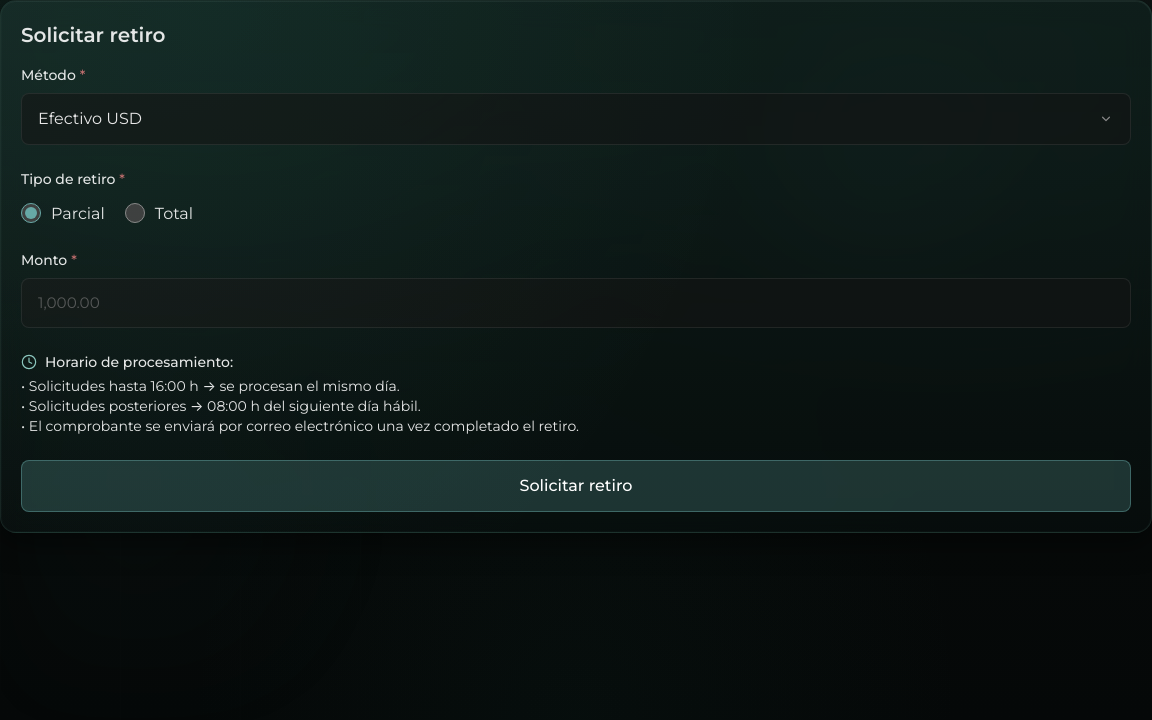
WithdrawalForm › cancelling the confirm modal does not submit the request
In the number field labelled "Monto*": (576, 303) [21,278,1131,328], type "50"
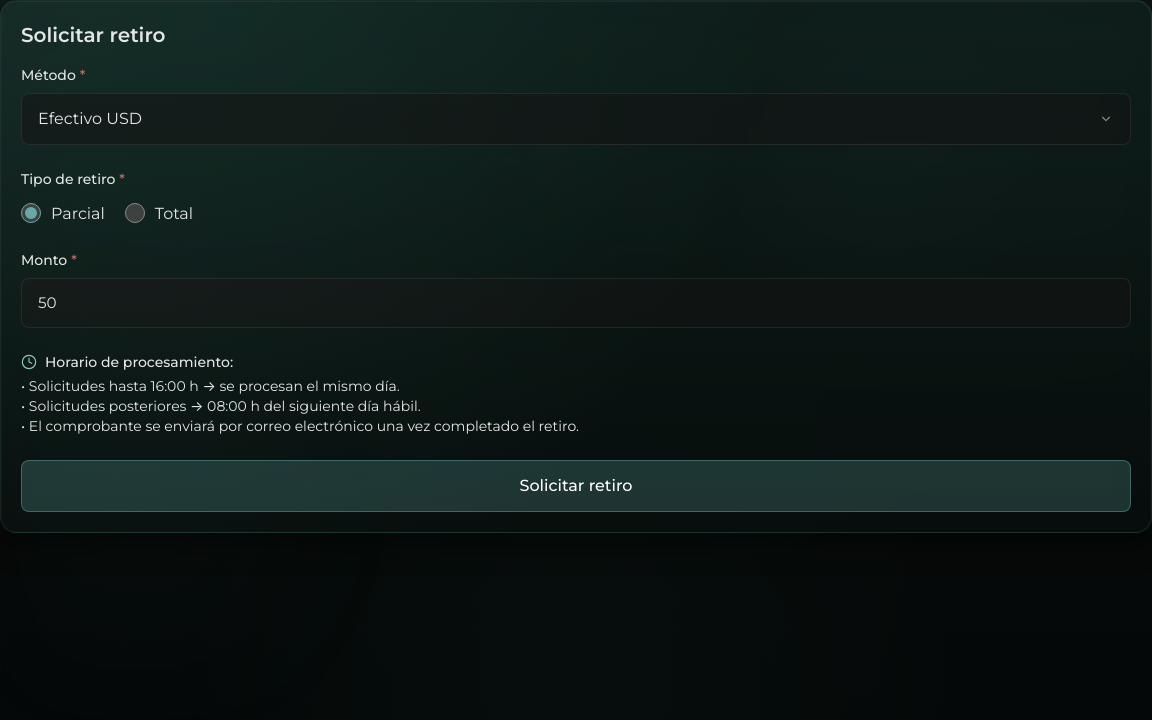
Submit the form, box [21,65,1131,512]
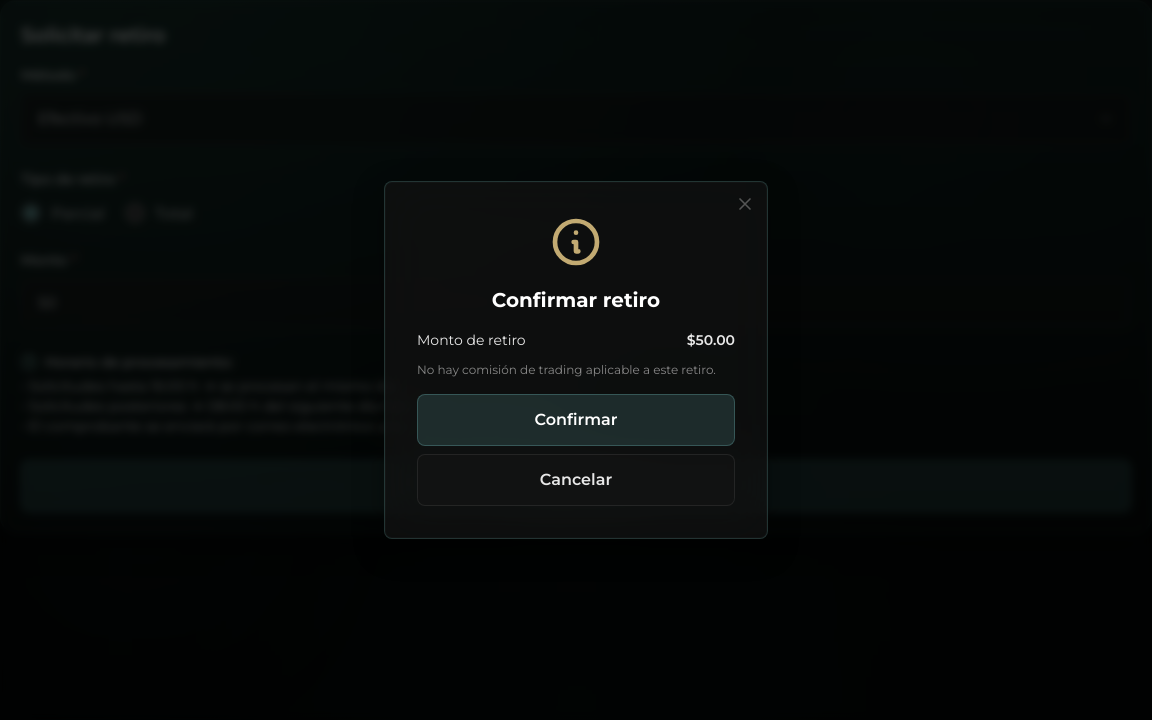
Expected: the heading "Confirmar retiro" is shown, [492,286,660,314]
Click the button "Cancelar": (576, 480) [417,454,735,506]
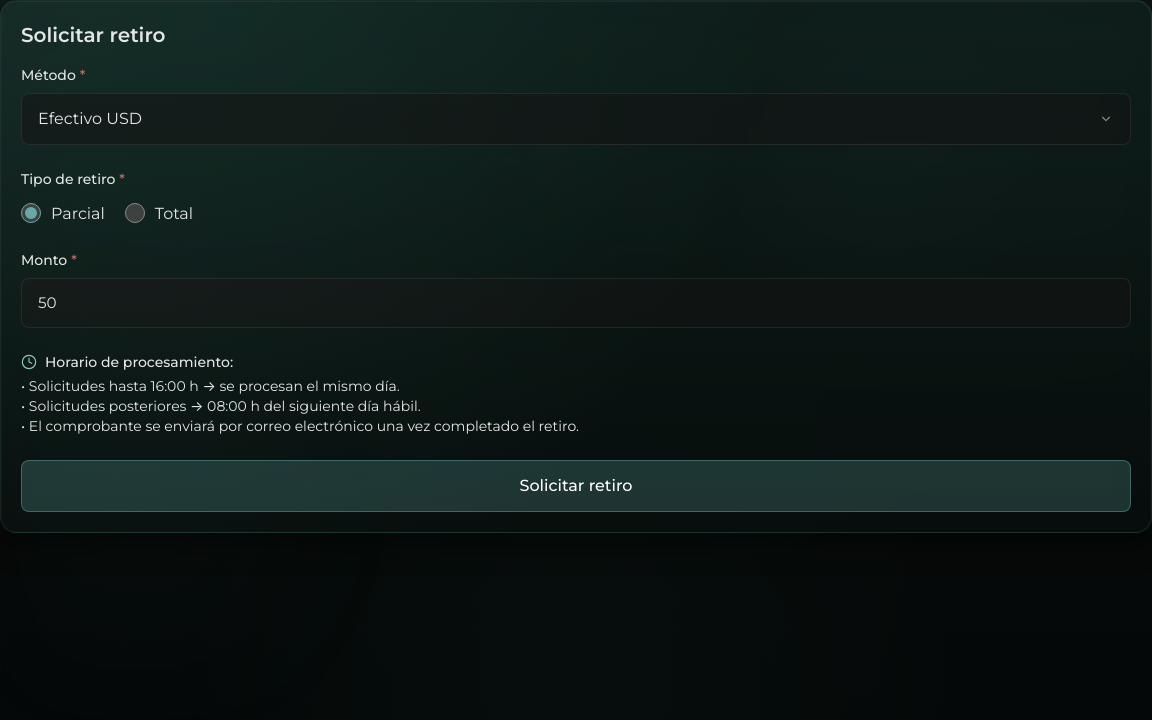
Expected: the heading "Confirmar retiro" is gone
